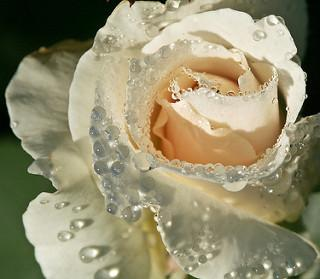Rose: (19, 10, 320, 275)
